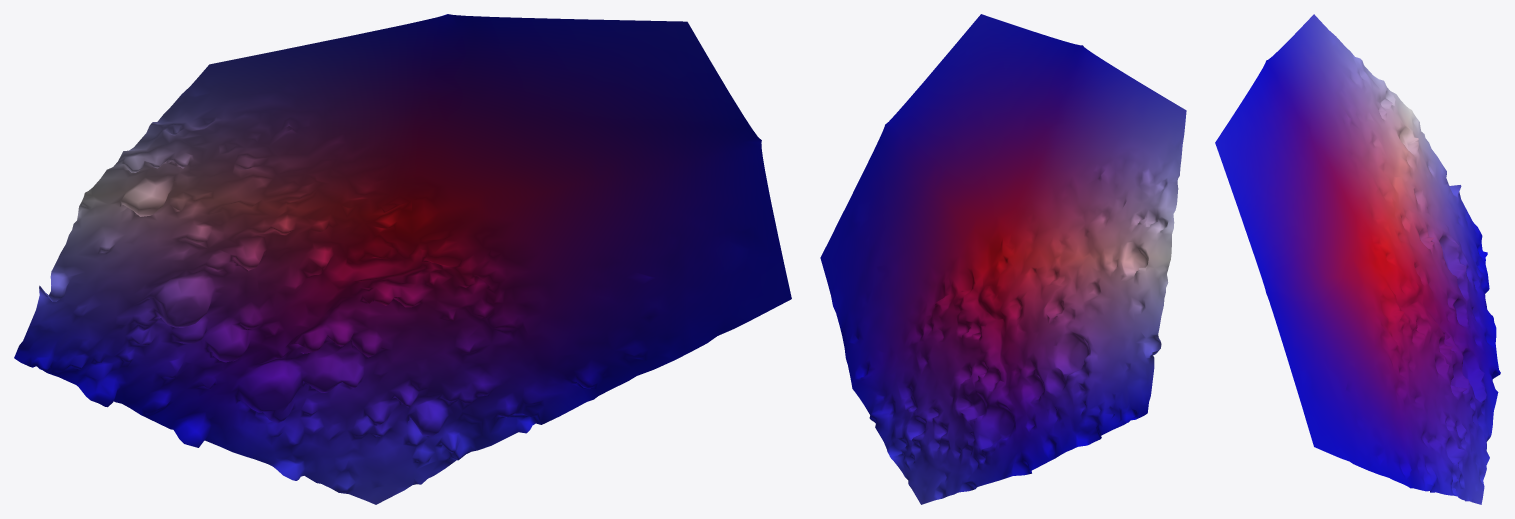
File: Hex_37.fbx
3 renders of one model, left to right at view 1: azimuth 30°, elevation 25°; view 2: azimuth 150°, elevation 25°; view 3: azimuth 270°, elevation 25°, orthographic. The views are drawn at different scales.
Parts seen in each view (by area): view 1: Hex_37; view 2: Hex_37; view 3: Hex_37.
Part boxes in pixels (x1,y1,x2,y2): Hex_37: [14, 14, 791, 504]; Hex_37: [820, 14, 1186, 504]; Hex_37: [1215, 14, 1500, 504].
Bounding box in the file's own units: 393 × 367 × 229.
